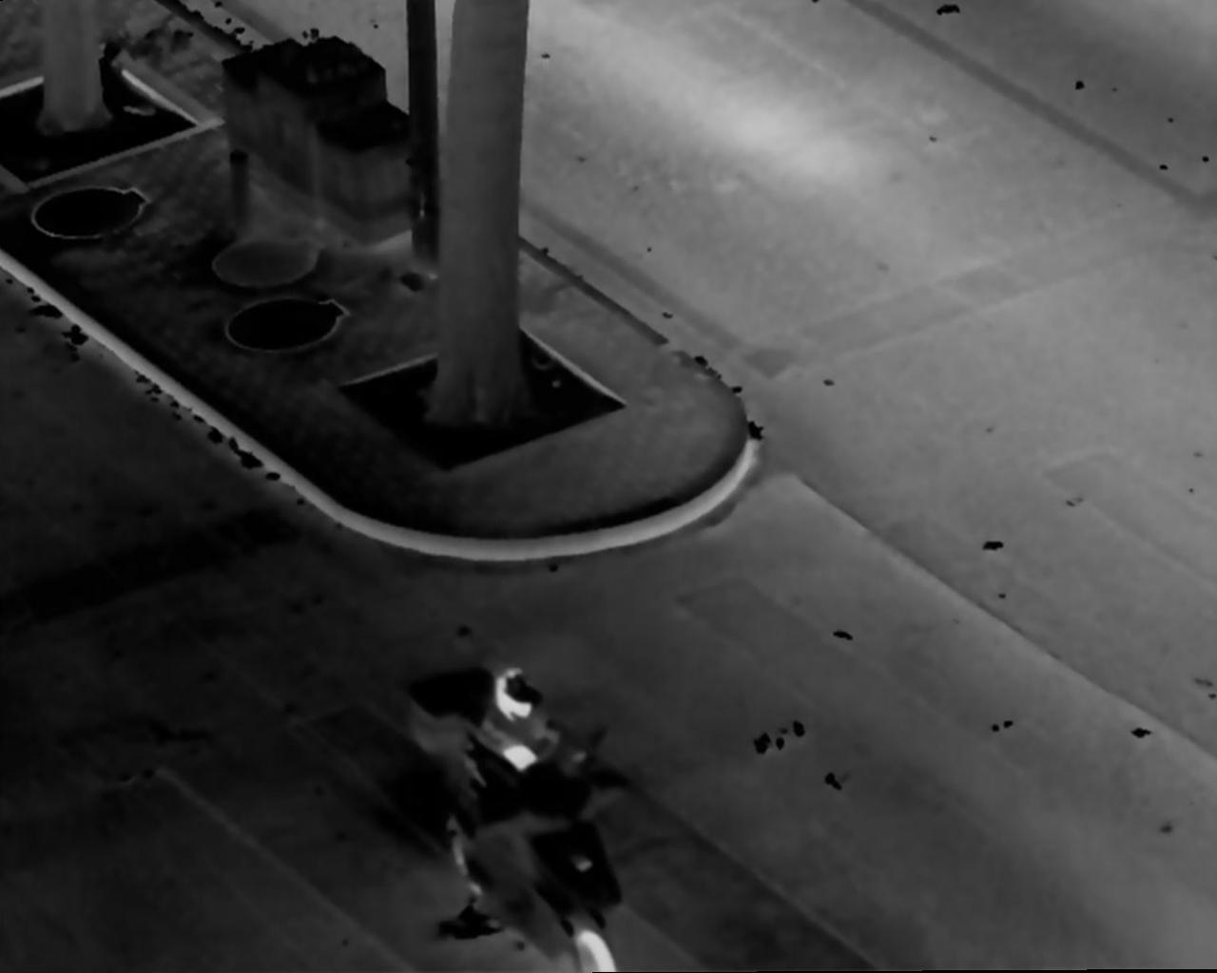person: (462, 668, 591, 931)
